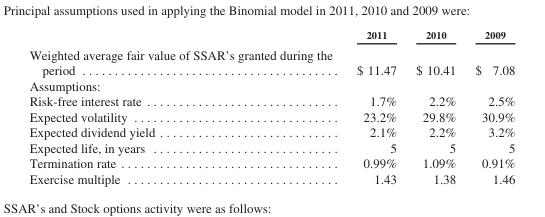table: (28, 28, 514, 185)
table column: (28, 28, 343, 185), (343, 28, 405, 185), (405, 28, 464, 185), (464, 28, 514, 185)
table column header: (28, 28, 514, 43)
table projected row header: (28, 77, 514, 93)
table row: (28, 43, 514, 77), (28, 77, 514, 93), (28, 108, 514, 124), (28, 139, 514, 155), (28, 28, 514, 43), (28, 93, 514, 108), (28, 124, 514, 139), (28, 155, 514, 170), (28, 170, 514, 185)
